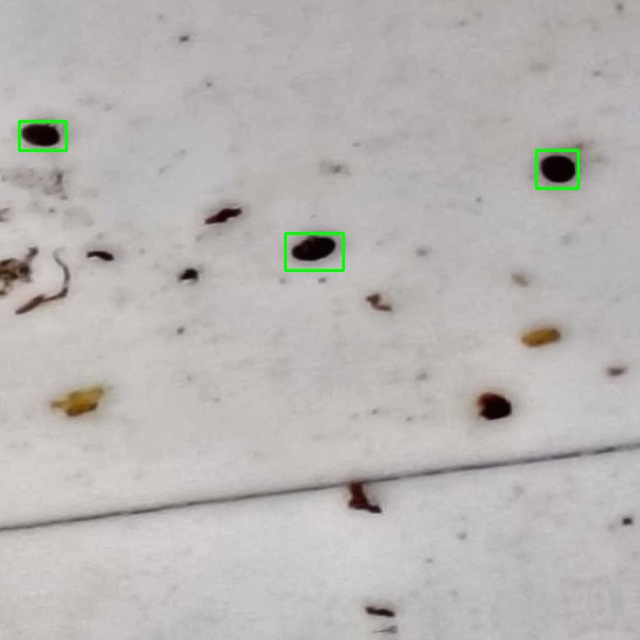varroa: (285, 233, 343, 270), (536, 150, 578, 188), (19, 121, 66, 150)
